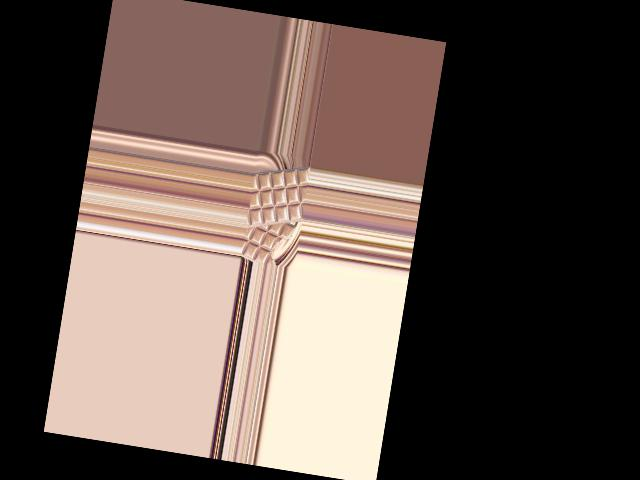chocolate: (244, 157, 310, 237)
